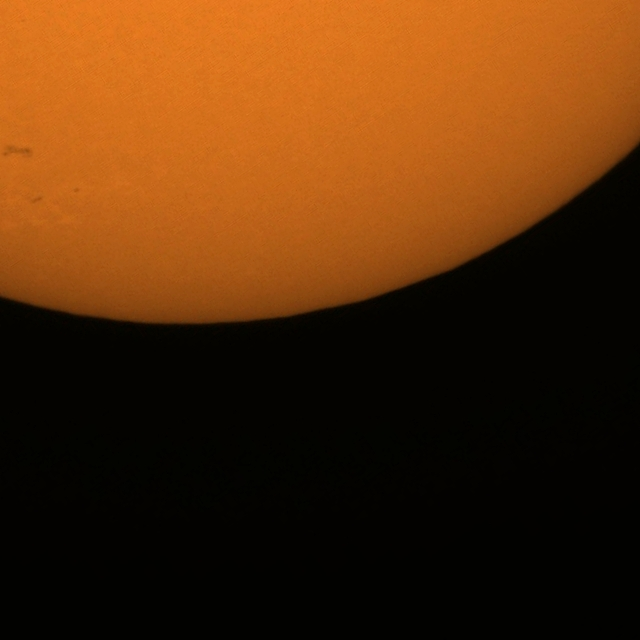sunspot: (31, 194, 44, 204), (72, 186, 81, 194)
